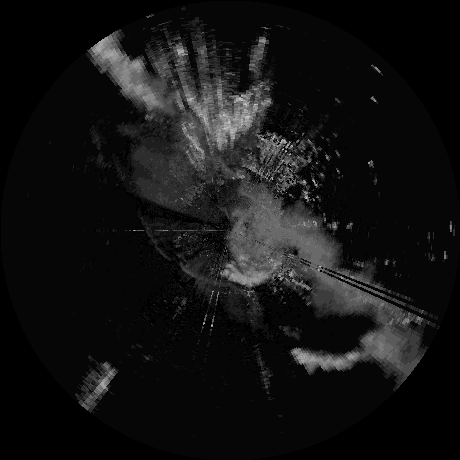frontgust: (180, 266, 255, 291), (143, 225, 170, 259)
